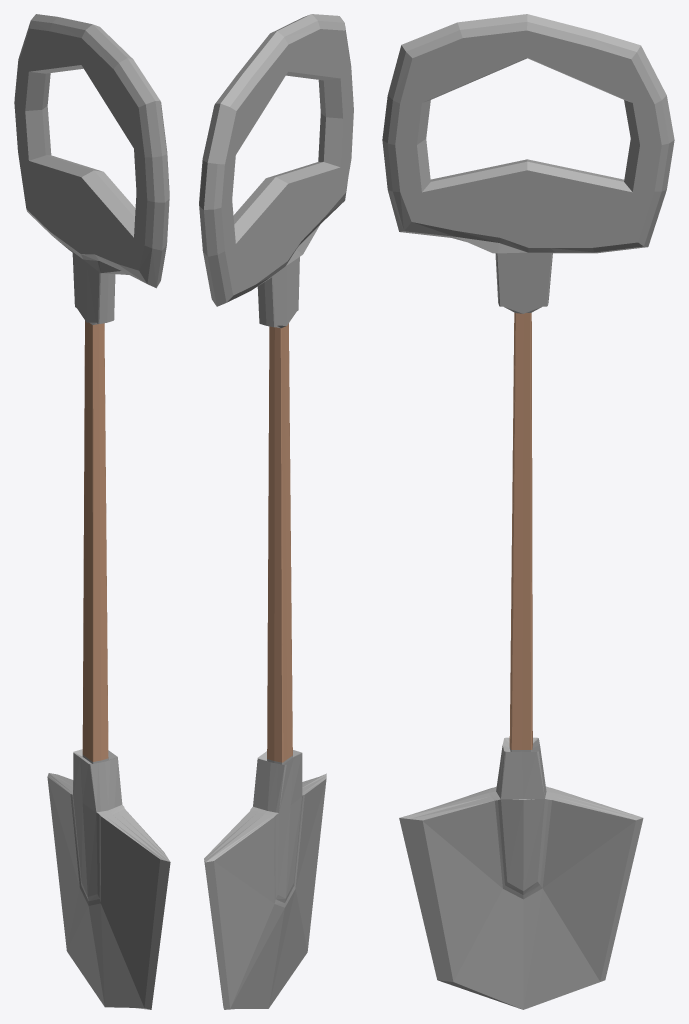
File: shovel.fbx
The picture shows the model from 3 angles, left to right: view 1: azimuth 30°, elevation 25°; view 2: azimuth 150°, elevation 25°; view 3: azimuth 270°, elevation 25°; orthographic projection.
Parts seen in each view (by area): view 1: shovel; view 2: shovel; view 3: shovel.
Boxes of the visible parts, x1,y1,x2,y2 form: shovel: (14, 14, 170, 1009); shovel: (199, 14, 353, 1009); shovel: (382, 14, 674, 1009).
Bounding box in the file's own units: 0.5475 × 15.18 × 4.07.
